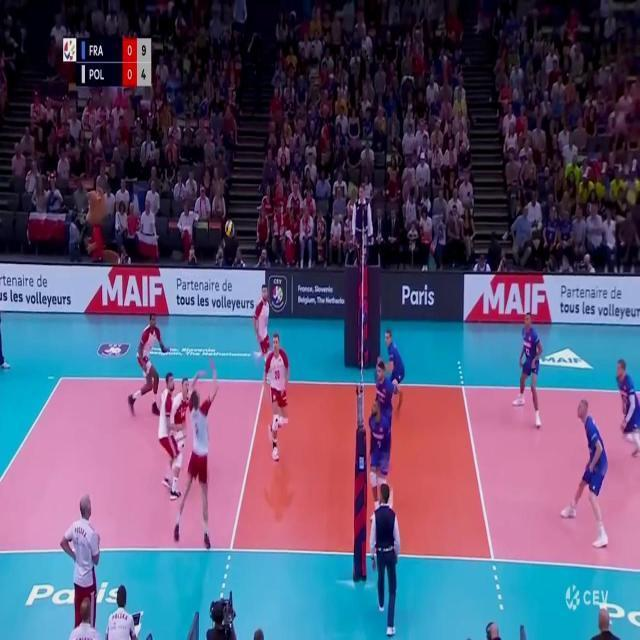volleyball: (224, 220, 234, 238)
